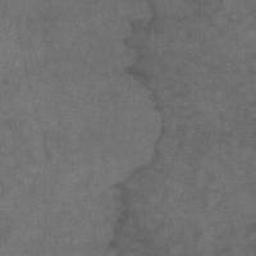Water spot: (104, 0, 256, 256)
